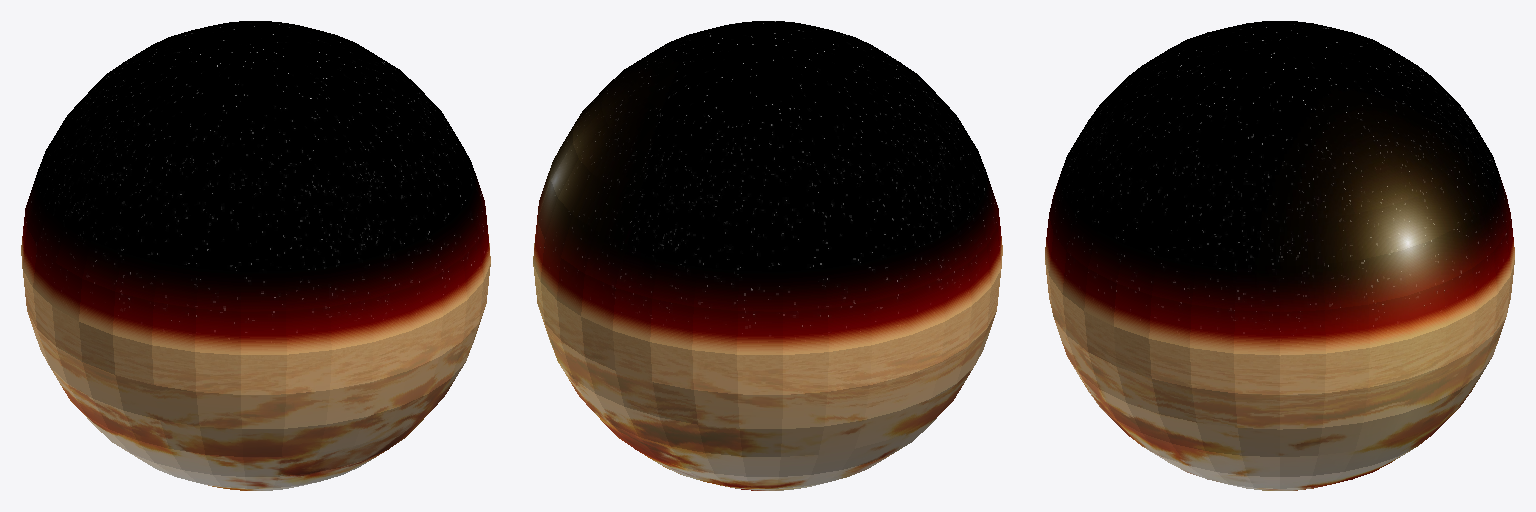
3 views of the same model, side by side, from view 1: azimuth 30°, elevation 25°; view 2: azimuth 150°, elevation 25°; view 3: azimuth 270°, elevation 25° (orthographic).
Parts seen in each view (by area): view 1: 球_球.001; view 2: 球_球.001; view 3: 球_球.001.
Boxes of the visible parts, x1,y1,x2,y2 form: 球_球.001: [21, 21, 490, 490]; 球_球.001: [533, 21, 1002, 490]; 球_球.001: [1045, 21, 1514, 490].
Bounding box in the file's own units: 2 × 2 × 2.
Materials: 1 (1 with a texture image).